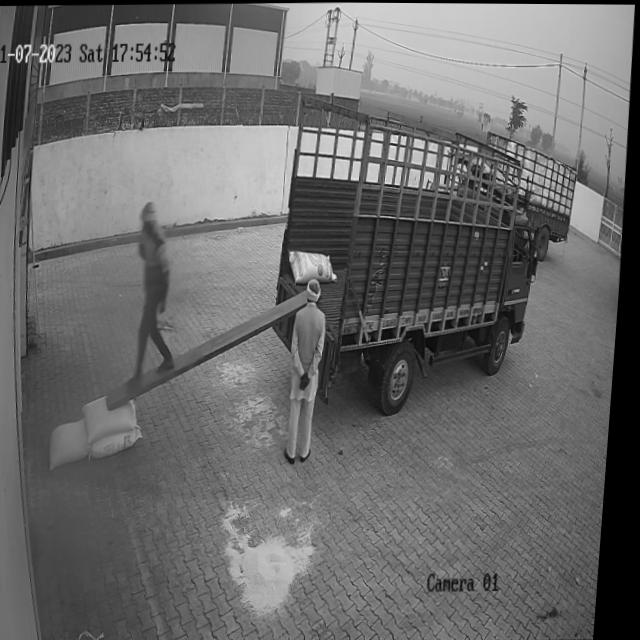sack: (86, 394, 143, 440), (53, 418, 97, 469), (290, 247, 343, 283), (95, 425, 148, 458)
